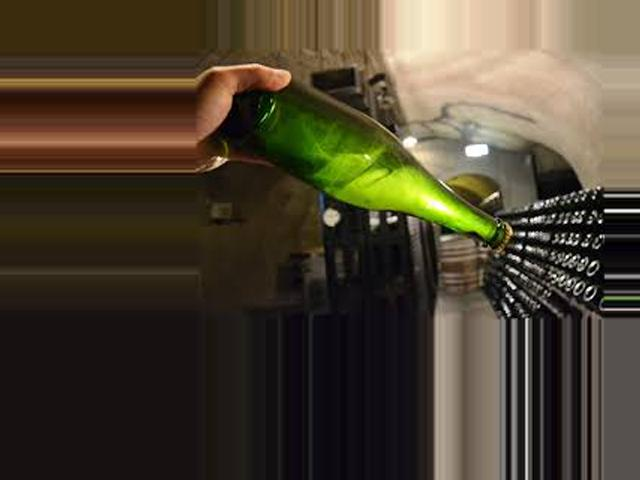beer: (222, 72, 513, 255)
